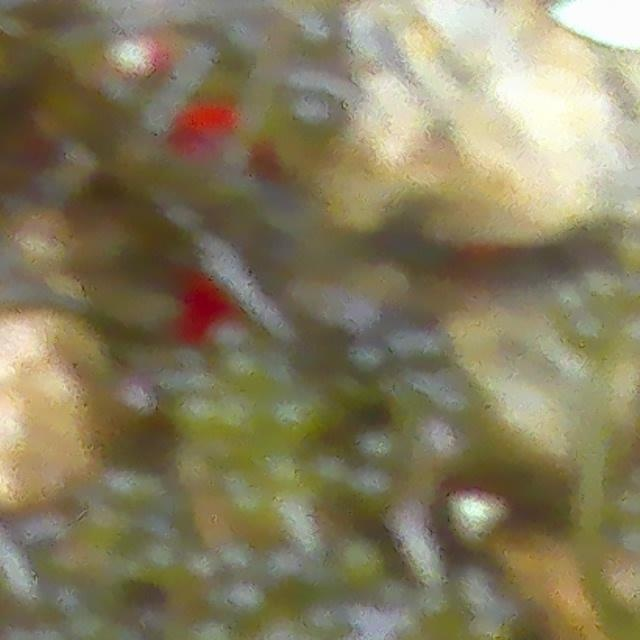SeaGrape: (266, 388, 321, 455), (172, 377, 225, 445)
